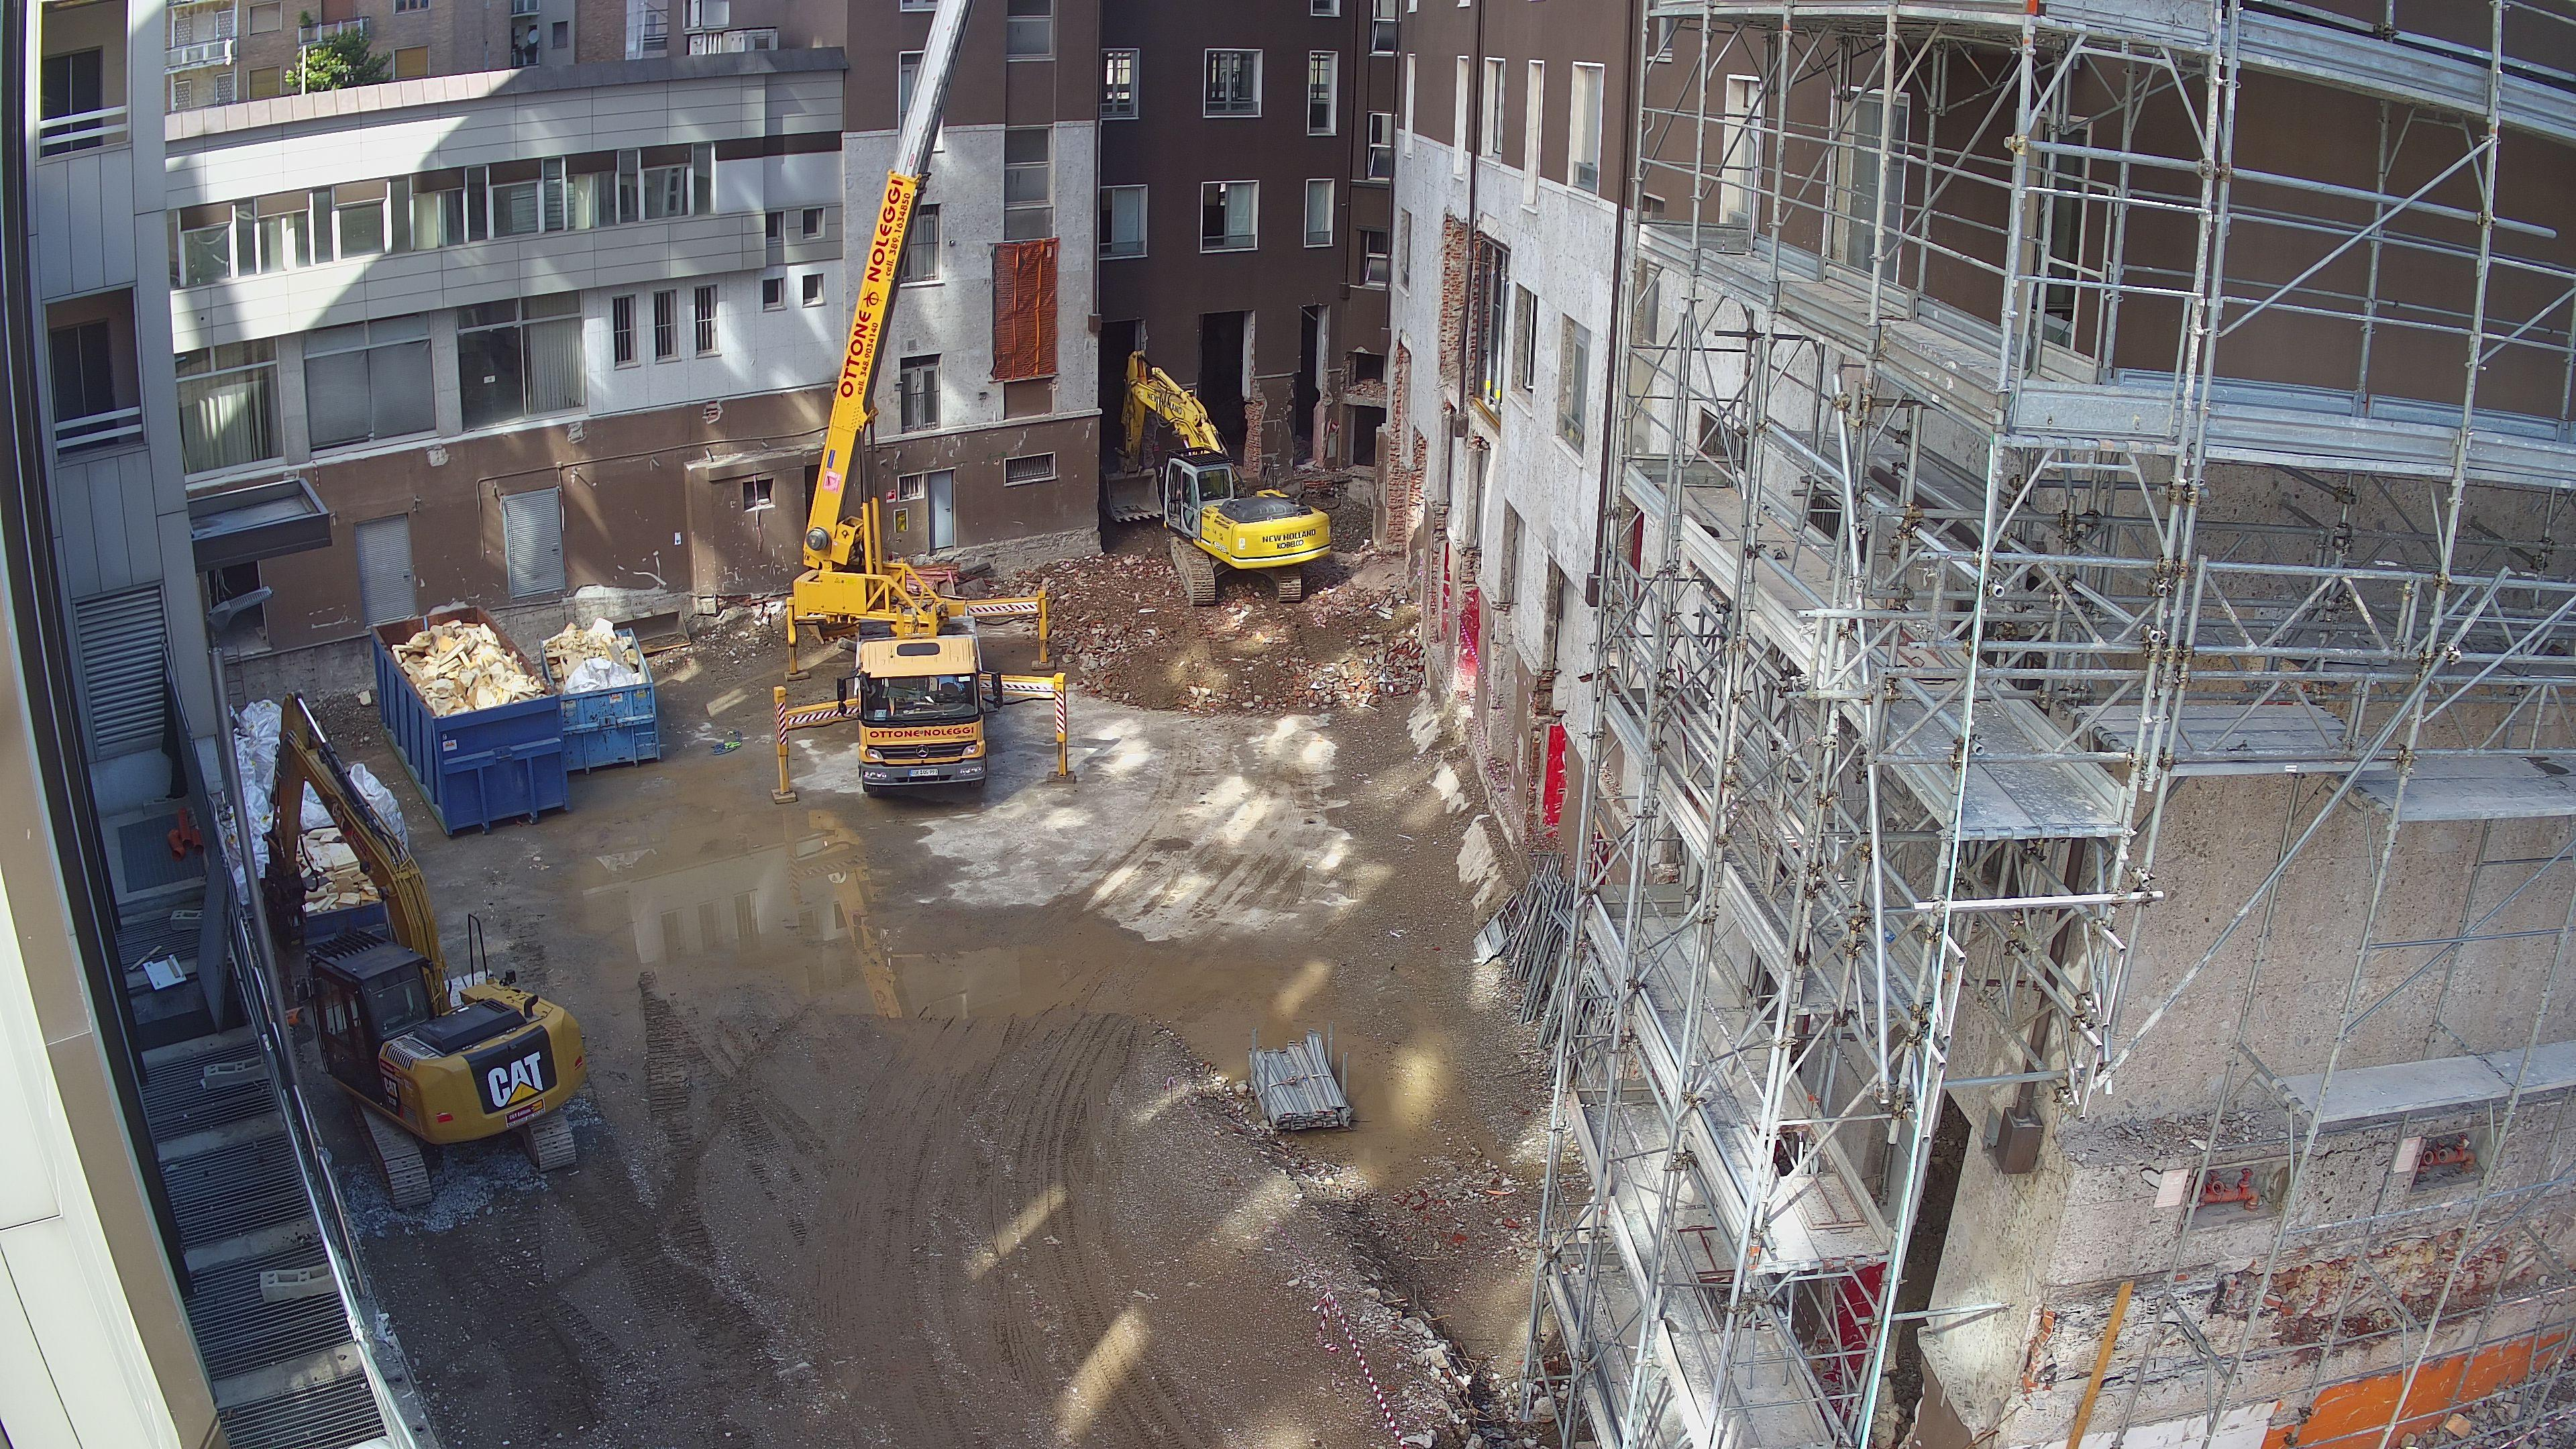Aerial platforms: (784, 0, 1007, 801)
excavator: (253, 690, 586, 1212), (1100, 350, 1332, 605)
